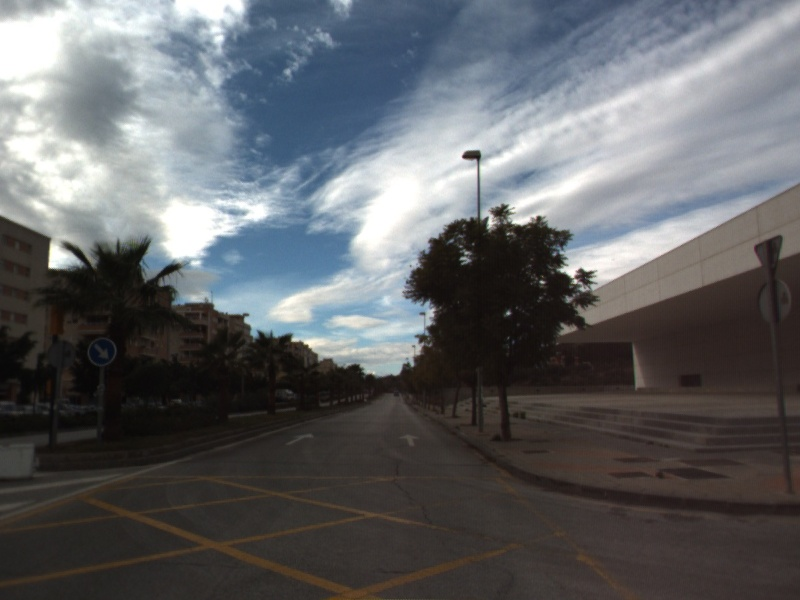STRAIGHT: (283, 431, 316, 447), (397, 432, 422, 448)
